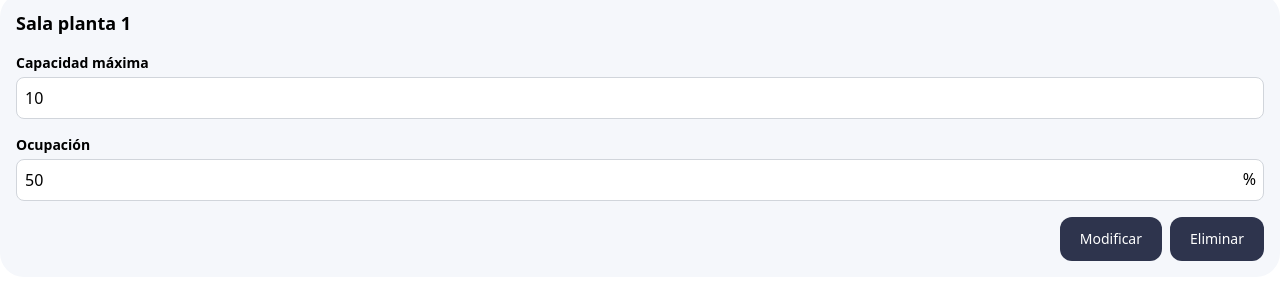
Test: RoomCard › validates input fields
Clear the number field labelled "Capacidad máxima" at (640, 98), box [16,77,1264,119]
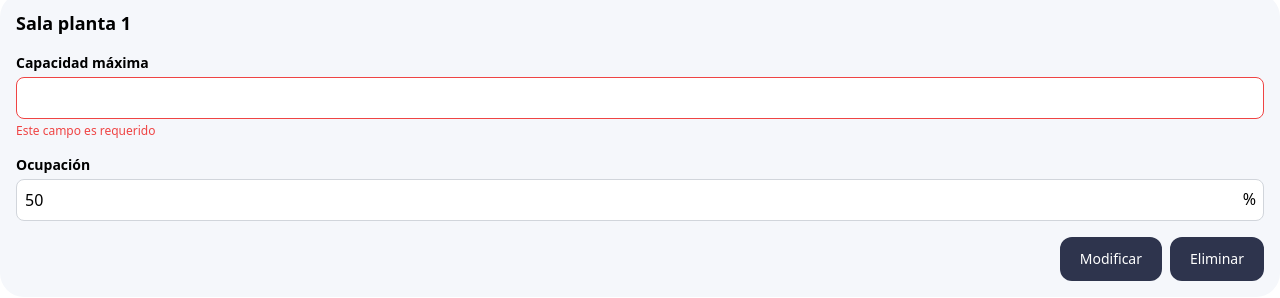
Now the text "Este campo es requerido" is shown, box [16,122,156,139]
